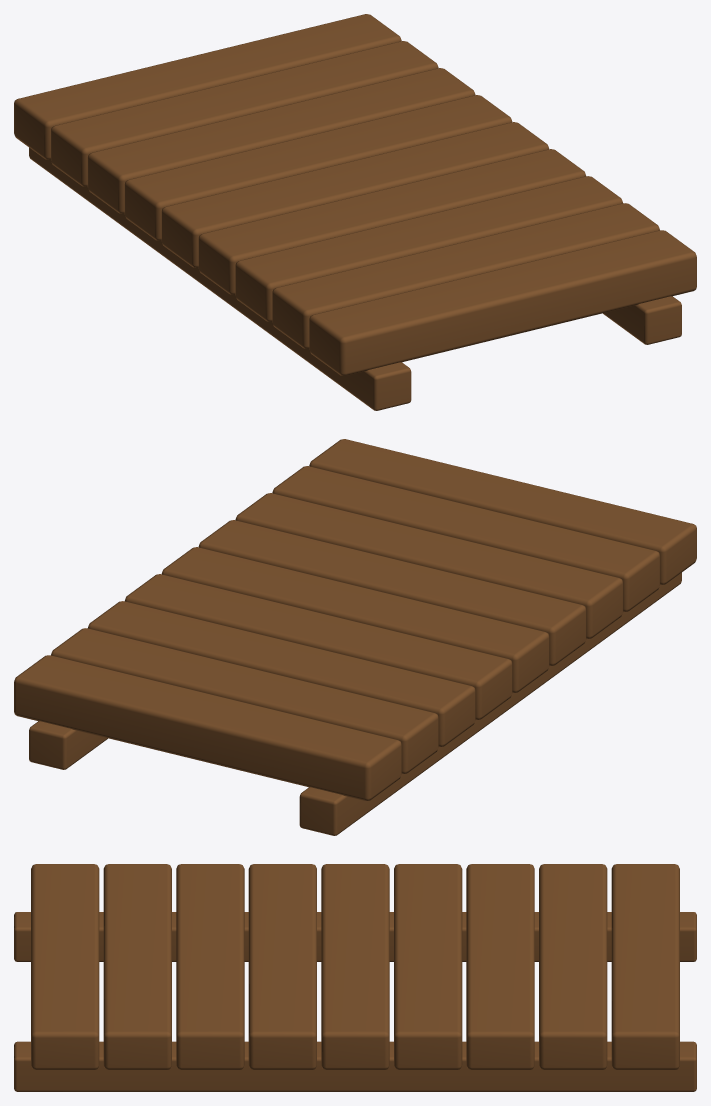
The model's file is SM_Env_BridgeModule.fbx.
3 renders of one model, top to bottom at view 1: azimuth 30°, elevation 25°; view 2: azimuth 150°, elevation 25°; view 3: azimuth 270°, elevation 25°, orthographic.
Visible parts, largest first — view 1: Bridge_plank, Bridge_plank.003, Bridge_plank.005, Bridge_plank.001, Bridge_plank.004, Bridge_plank.006, Bridge_plank.002, Bridge_plank.007, Bridge_plank.008, Bridge_beam, Bridge_beam.001; view 2: Bridge_plank.008, Bridge_plank.003, Bridge_plank.005, Bridge_plank.002, Bridge_plank.004, Bridge_plank.007, Bridge_plank.006, Bridge_plank, Bridge_plank.001, Bridge_beam, Bridge_beam.001; view 3: Bridge_beam.001, Bridge_plank, Bridge_plank.001, Bridge_plank.007, Bridge_plank.008, Bridge_plank.002, Bridge_plank.004, Bridge_plank.006, Bridge_plank.003, Bridge_plank.005, Bridge_beam.
Part boxes in pixels (x1,y1,x2,y2): Bridge_plank: (309,230,696,375); Bridge_plank.003: (198,149,585,294); Bridge_plank.005: (124,95,512,240); Bridge_plank.001: (272,203,659,348); Bridge_plank.004: (161,122,549,267); Bridge_plank.006: (87,68,475,213); Bridge_plank.002: (235,176,622,321); Bridge_plank.007: (51,41,438,186); Bridge_plank.008: (14,14,401,159); Bridge_beam: (29,147,411,410); Bridge_beam.001: (603,296,681,344); Bridge_plank.008: (14,655,401,800); Bridge_plank.003: (198,520,586,665); Bridge_plank.005: (125,574,512,719); Bridge_plank.002: (235,493,623,638); Bridge_plank.004: (161,547,549,692); Bridge_plank.007: (51,628,438,773); Bridge_plank.006: (88,601,475,746); Bridge_plank: (309,439,696,584); Bridge_plank.001: (272,466,659,611); Bridge_beam: (299,572,681,835); Bridge_beam.001: (29,721,107,769); Bridge_beam.001: (14,1041,696,1091); Bridge_plank: (31,864,99,1069); Bridge_plank.001: (103,864,171,1069); Bridge_plank.007: (539,864,607,1069); Bridge_plank.008: (611,864,679,1069); Bridge_plank.002: (176,864,244,1069); Bridge_plank.004: (321,864,389,1069); Bridge_plank.006: (466,864,534,1069); Bridge_plank.003: (248,864,316,1069); Bridge_plank.005: (394,864,462,1069); Bridge_beam: (14,912,696,961).
Size of what is drawn, in the model's own units: 95 by 160 by 18.5.
